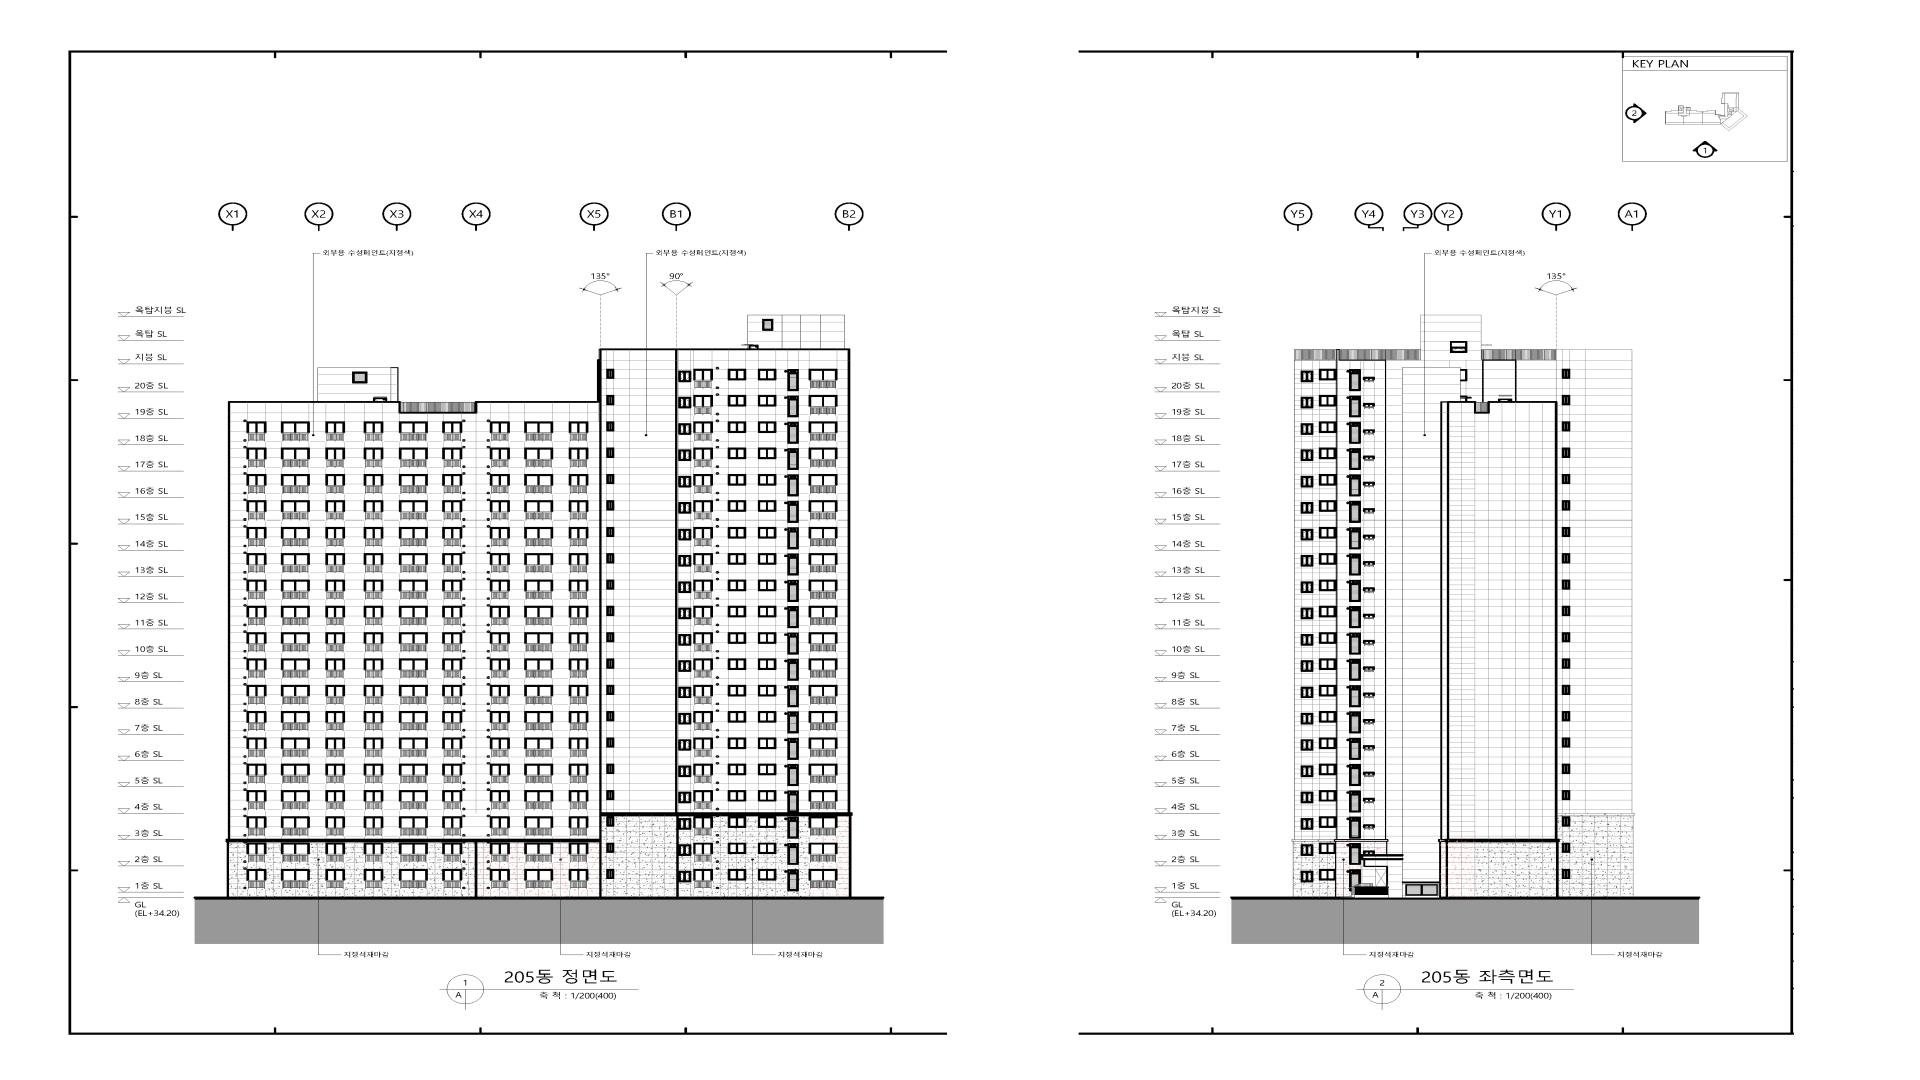door: (1375, 869, 1386, 887)
wall: (195, 315, 883, 900), (1231, 315, 1699, 900)
window: (809, 500, 838, 521), (808, 737, 837, 758), (524, 605, 553, 626), (281, 579, 310, 600), (525, 763, 554, 784), (281, 763, 310, 784), (809, 369, 838, 389), (524, 421, 553, 441), (399, 421, 428, 441), (281, 422, 310, 442), (524, 448, 553, 468), (399, 448, 428, 468), (281, 448, 310, 468), (281, 474, 310, 494), (281, 500, 310, 520), (281, 527, 310, 547), (399, 474, 428, 494), (399, 500, 428, 520), (399, 527, 428, 547), (525, 474, 554, 494), (524, 500, 553, 520), (524, 527, 553, 547), (525, 553, 554, 573), (809, 395, 838, 415), (809, 421, 838, 441), (809, 447, 838, 467), (809, 474, 838, 494), (809, 527, 838, 547), (808, 553, 837, 573), (809, 580, 838, 600), (809, 606, 838, 626), (809, 632, 838, 652), (809, 658, 838, 678), (808, 685, 837, 705), (808, 711, 837, 731), (809, 764, 838, 784), (809, 790, 838, 810), (809, 816, 838, 836), (809, 843, 838, 863), (809, 869, 838, 889), (524, 580, 553, 600), (399, 553, 428, 573), (399, 579, 428, 599), (525, 632, 554, 652), (524, 658, 553, 678), (399, 606, 428, 626), (399, 632, 428, 652), (399, 658, 428, 678), (399, 685, 428, 705), (524, 685, 553, 705), (281, 553, 310, 573), (281, 606, 310, 626), (281, 632, 310, 652), (281, 658, 310, 678), (281, 685, 310, 705), (281, 711, 310, 731), (281, 737, 310, 757), (399, 711, 428, 731), (399, 737, 428, 757), (524, 711, 553, 731), (524, 737, 553, 757), (399, 764, 428, 784), (281, 790, 310, 810), (399, 790, 428, 810), (525, 790, 554, 810), (524, 816, 553, 836), (524, 843, 553, 863), (524, 869, 553, 889), (399, 869, 428, 889), (399, 843, 428, 863), (399, 816, 428, 836), (281, 816, 310, 836), (281, 843, 310, 863), (281, 869, 310, 889), (568, 447, 589, 468), (363, 632, 384, 653), (363, 658, 384, 679), (489, 527, 510, 548), (568, 632, 589, 653), (569, 421, 589, 442), (490, 421, 510, 442), (442, 421, 462, 442), (247, 421, 267, 442), (569, 474, 589, 495), (442, 474, 462, 495), (325, 447, 345, 468), (442, 790, 462, 811), (364, 790, 384, 811), (325, 790, 345, 811), (246, 816, 266, 837), (325, 816, 345, 837), (247, 842, 267, 863), (325, 842, 345, 863), (325, 869, 345, 890), (442, 843, 462, 864), (490, 816, 510, 837), (569, 816, 589, 837), (568, 843, 589, 863), (325, 632, 345, 653), (247, 632, 267, 653), (247, 658, 267, 679), (325, 658, 345, 679), (442, 658, 462, 679), (490, 658, 510, 679), (569, 658, 589, 679), (325, 684, 345, 705), (247, 711, 267, 732), (247, 737, 267, 758), (325, 711, 345, 732), (325, 764, 345, 785), (364, 711, 384, 732), (364, 737, 384, 758), (442, 711, 462, 732), (490, 737, 510, 758), (490, 790, 510, 811), (693, 421, 713, 442), (693, 447, 713, 468), (693, 579, 713, 600), (693, 632, 713, 653), (693, 658, 713, 679), (693, 711, 713, 732), (693, 737, 713, 758), (693, 763, 713, 784), (693, 790, 713, 811), (364, 500, 384, 521), (569, 500, 589, 521), (247, 447, 267, 468), (246, 527, 266, 548), (363, 527, 383, 548), (442, 527, 462, 548), (569, 527, 589, 548), (569, 553, 589, 574), (490, 553, 510, 574), (442, 553, 462, 574), (363, 553, 384, 573), (325, 579, 345, 600), (364, 579, 384, 600), (442, 632, 462, 653), (693, 369, 713, 389), (364, 422, 384, 442), (325, 422, 345, 442), (490, 448, 510, 468), (490, 474, 510, 494), (443, 448, 463, 468), (364, 448, 384, 468), (364, 474, 384, 494), (325, 474, 345, 494), (247, 791, 267, 811), (364, 816, 384, 836), (442, 816, 462, 836), (246, 869, 266, 889), (364, 843, 384, 863), (363, 869, 383, 889), (442, 869, 462, 889), (490, 843, 510, 863), (490, 869, 510, 889), (569, 869, 589, 889), (693, 816, 713, 836), (693, 843, 713, 863), (693, 869, 713, 889), (569, 685, 589, 705), (490, 685, 510, 705), (443, 685, 463, 705), (364, 685, 384, 705), (246, 685, 266, 705), (247, 764, 267, 784), (325, 738, 345, 758), (364, 764, 384, 784), (442, 738, 462, 758), (490, 711, 510, 731), (442, 764, 462, 784), (490, 764, 510, 784), (569, 711, 589, 731), (569, 738, 589, 758), (569, 764, 589, 784), (569, 790, 589, 810), (693, 395, 713, 415), (693, 474, 713, 494), (693, 500, 713, 520), (693, 527, 713, 547), (693, 553, 713, 573), (693, 606, 713, 626), (693, 685, 713, 705), (325, 500, 345, 520), (442, 500, 462, 520), (490, 500, 510, 520), (246, 500, 266, 520), (246, 474, 266, 494), (325, 527, 345, 547), (325, 553, 345, 573), (247, 553, 267, 573), (246, 580, 266, 600), (246, 606, 266, 626), (325, 606, 345, 626), (364, 606, 384, 626), (442, 580, 462, 600), (443, 606, 463, 626), (490, 580, 510, 600), (490, 606, 510, 626), (568, 580, 588, 600), (569, 606, 589, 626), (490, 632, 510, 652), (787, 711, 799, 734), (1349, 553, 1361, 576), (1349, 816, 1361, 839), (787, 369, 799, 391), (787, 396, 799, 418), (787, 448, 799, 470), (787, 475, 799, 497), (787, 553, 799, 575), (787, 580, 799, 602), (787, 606, 799, 628), (787, 659, 799, 681), (787, 685, 799, 707), (787, 738, 799, 760), (787, 764, 799, 786), (787, 817, 799, 839), (787, 843, 799, 865), (787, 869, 799, 891), (1349, 369, 1361, 391), (1349, 395, 1361, 417), (1349, 422, 1361, 444), (1349, 448, 1361, 470), (1349, 475, 1361, 497), (1349, 501, 1361, 523), (1349, 527, 1361, 549), (1349, 580, 1361, 602), (1349, 606, 1361, 628), (1349, 632, 1361, 654), (1349, 659, 1361, 681), (1349, 685, 1361, 707), (1349, 711, 1361, 733), (1349, 738, 1361, 760), (1349, 764, 1361, 786), (1349, 843, 1361, 865), (1349, 869, 1361, 891), (788, 632, 799, 655), (1350, 790, 1361, 813), (788, 422, 799, 444), (788, 501, 799, 523), (788, 528, 799, 550), (788, 790, 799, 812), (758, 553, 777, 565), (758, 632, 777, 644), (758, 658, 777, 670), (727, 711, 746, 723), (758, 711, 777, 723), (727, 816, 746, 828), (758, 816, 777, 828), (758, 500, 777, 512), (1319, 711, 1338, 723), (728, 606, 746, 618), (758, 606, 776, 618), (728, 632, 746, 644), (728, 658, 746, 670), (728, 685, 746, 697), (728, 737, 746, 749), (758, 790, 776, 802), (728, 869, 746, 881), (758, 869, 776, 881), (728, 395, 746, 407), (758, 395, 776, 407), (728, 421, 746, 433), (758, 421, 776, 433), (728, 447, 746, 459), (728, 474, 746, 486), (758, 474, 776, 486), (728, 500, 746, 512), (728, 527, 746, 539), (728, 553, 746, 565), (1319, 395, 1337, 407), (1319, 421, 1337, 433), (1319, 447, 1337, 459), (1319, 500, 1337, 512), (1319, 553, 1337, 565), (1319, 579, 1337, 591), (1319, 606, 1337, 618), (1319, 632, 1337, 644), (1319, 658, 1337, 670), (1319, 763, 1337, 775), (1319, 790, 1337, 802), (1319, 816, 1337, 828), (758, 369, 777, 380), (758, 685, 777, 696), (758, 738, 777, 749), (728, 843, 747, 854), (758, 843, 777, 854), (758, 448, 777, 459), (1450, 341, 1467, 353), (1405, 884, 1422, 896), (1319, 842, 1336, 854), (728, 369, 746, 380), (728, 580, 746, 591), (758, 580, 776, 591), (728, 764, 746, 775), (758, 764, 776, 775), (728, 790, 746, 801), (758, 527, 776, 538), (1319, 369, 1337, 380), (1319, 474, 1337, 485), (1319, 527, 1337, 538), (1319, 685, 1337, 696), (1319, 738, 1337, 749), (1422, 884, 1438, 896), (1319, 869, 1336, 880), (676, 871, 691, 883), (678, 397, 692, 409), (678, 529, 692, 541), (678, 555, 692, 567), (678, 686, 692, 698), (677, 818, 691, 830), (677, 844, 691, 856), (352, 372, 367, 383), (678, 370, 691, 382), (678, 423, 691, 435), (678, 449, 691, 461), (678, 502, 691, 514), (678, 634, 691, 646), (678, 660, 691, 672), (678, 713, 691, 725), (678, 739, 691, 751), (678, 791, 691, 803), (1300, 502, 1313, 514), (1300, 555, 1313, 567), (1300, 581, 1313, 593), (1300, 660, 1313, 672), (1300, 713, 1313, 725), (1300, 844, 1313, 856), (1301, 397, 1313, 409), (1301, 423, 1313, 435), (1301, 449, 1313, 461), (1301, 476, 1313, 488), (1301, 607, 1313, 619), (1301, 634, 1313, 646), (1301, 739, 1313, 751), (1301, 765, 1313, 777), (1301, 818, 1313, 830), (678, 476, 691, 487), (678, 582, 691, 593), (678, 608, 691, 619), (678, 766, 691, 777), (1300, 687, 1313, 698), (1300, 792, 1313, 803), (762, 319, 773, 331), (1301, 371, 1313, 382), (1301, 529, 1313, 540), (1301, 871, 1313, 882), (606, 737, 615, 748), (606, 606, 615, 616), (606, 421, 615, 431), (1561, 764, 1570, 774), (1561, 790, 1570, 800), (1561, 816, 1570, 826), (606, 500, 614, 511), (606, 658, 614, 669), (606, 447, 614, 458), (1562, 421, 1570, 432), (1562, 447, 1570, 458), (1460, 369, 1467, 381), (1363, 666, 1375, 673), (606, 369, 614, 379), (606, 474, 614, 484), (606, 527, 614, 537), (606, 553, 614, 563), (606, 580, 614, 590), (606, 632, 614, 642), (606, 685, 614, 695), (606, 711, 614, 721), (606, 764, 614, 774), (606, 790, 614, 800), (606, 816, 614, 826), (606, 843, 614, 853), (606, 869, 614, 879), (606, 395, 614, 405), (1562, 369, 1570, 379), (1562, 395, 1570, 405), (1562, 474, 1570, 484), (1562, 500, 1570, 510), (1562, 527, 1570, 537), (1562, 554, 1570, 564), (1562, 580, 1570, 590), (1562, 606, 1570, 616), (1562, 632, 1570, 642), (1562, 659, 1570, 669), (1562, 685, 1570, 695), (1562, 711, 1570, 721), (1562, 737, 1570, 747), (1562, 843, 1570, 853), (1562, 869, 1570, 879), (1363, 377, 1375, 383), (1363, 403, 1375, 409), (1363, 429, 1375, 435), (1363, 456, 1375, 462), (1363, 482, 1375, 488), (1363, 508, 1375, 514), (1363, 535, 1375, 541), (1363, 561, 1375, 567), (1363, 587, 1375, 593), (1363, 614, 1375, 620), (1363, 640, 1375, 646), (1363, 692, 1375, 698), (1363, 719, 1375, 725), (1363, 745, 1375, 751), (1363, 771, 1375, 777), (1363, 798, 1375, 804), (1363, 824, 1375, 830), (1363, 850, 1375, 854)
